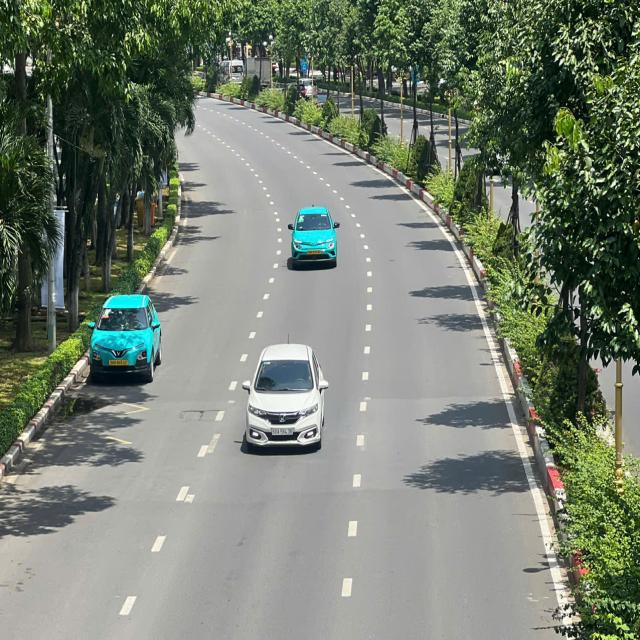car: (236, 338, 332, 458), (84, 284, 167, 391), (282, 194, 344, 274)
